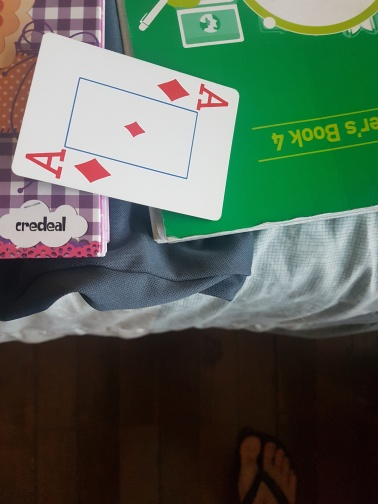ace: (12, 35, 239, 220)
